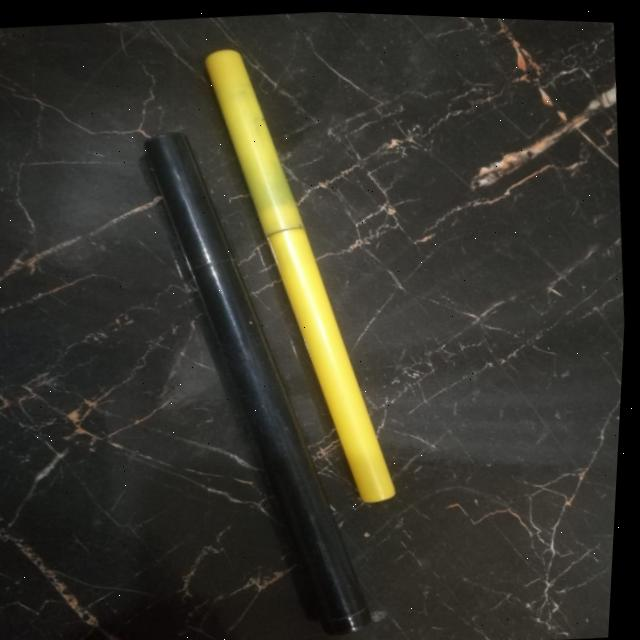lip liner: (106, 4, 449, 640)
